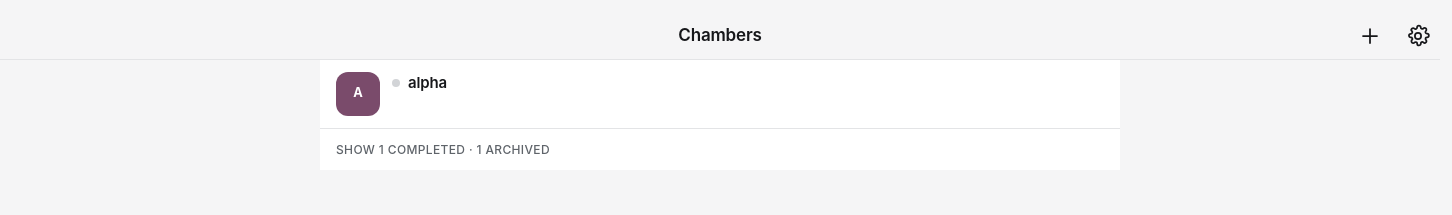
the folded chambers are always accounted for › tapping it unfolds them in place
Click the button "Show 1 completed · 1 archived". click: click(357, 150)
box: 320,128 -> 1120,170
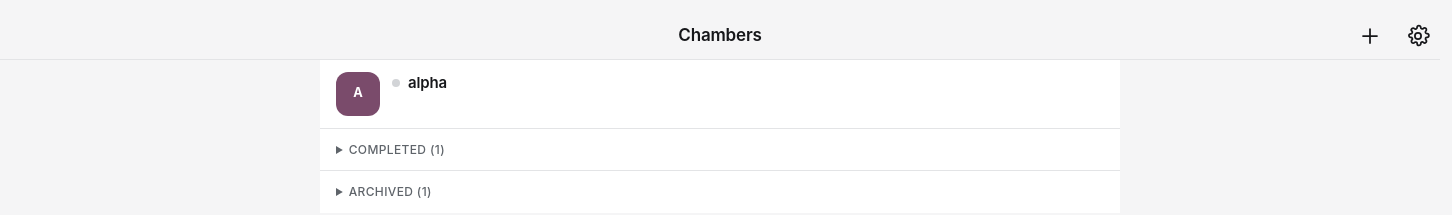
Now the heading "Completed (1)" is shown, box 349,142 -> 445,157
Now the button "1 completed ·" is gone
